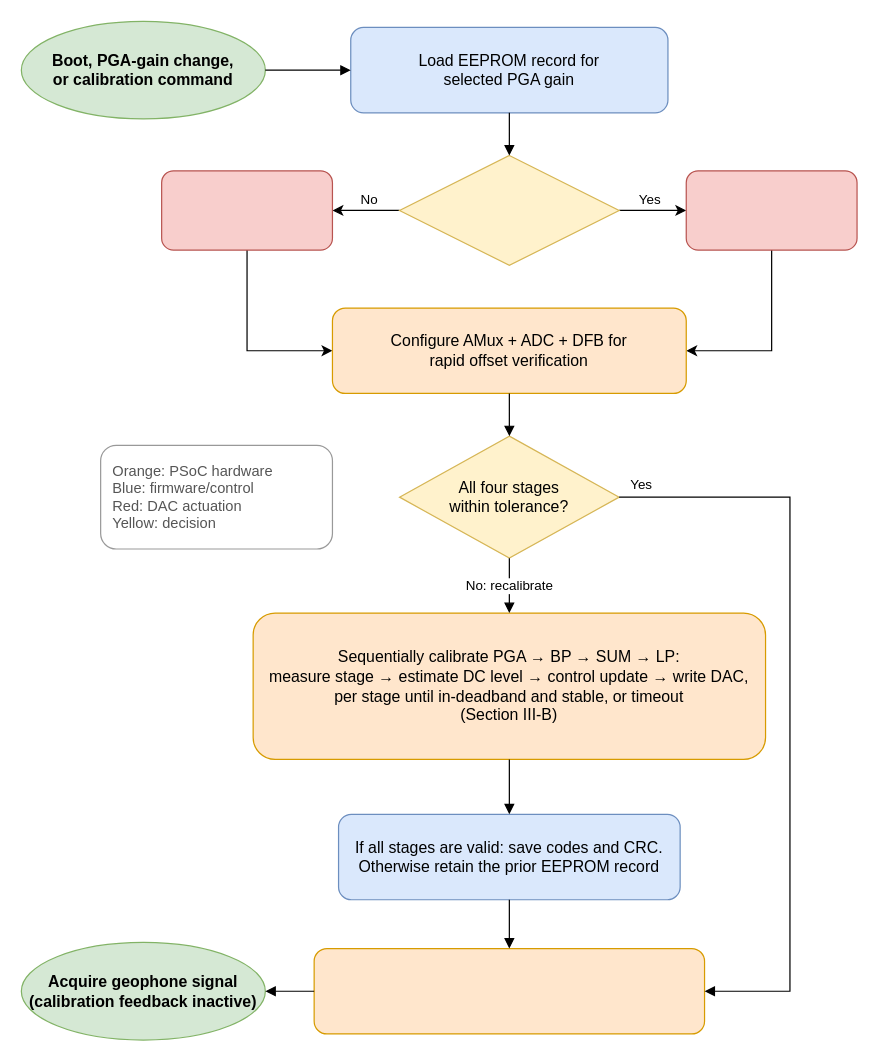
This 878x1061 diagram has some shape labels left out. The box of each missing label's shape, as (x1, y1, x2, y2) in pixels:
Apply stored four-DAC code set: (685, 170, 857, 250)
Invalid record: apply safe nominal DAC seeds: (160, 170, 332, 250)
Restore acquisition routing and DFB coefficients; freeze all DAC codes: (313, 947, 705, 1034)
Valid record and CRC?: (398, 154, 619, 265)
